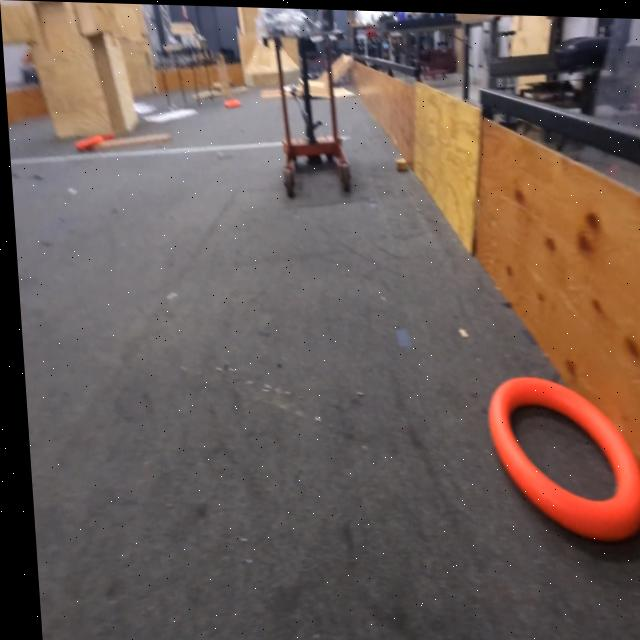note: (483, 371, 640, 541), (70, 131, 102, 151), (222, 99, 239, 109)
